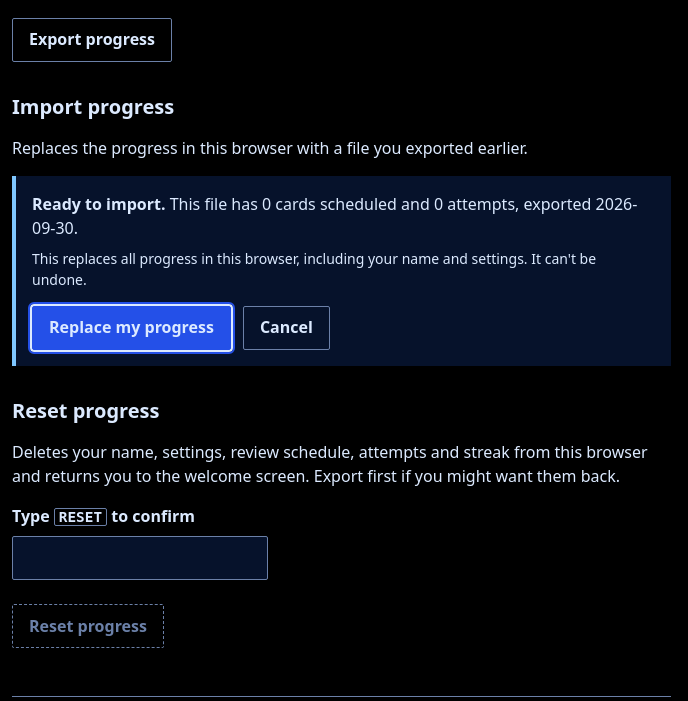
Test case: Settings › cancels an import without changing anything and returns focus to the chooser
Earlier steps of the test are not shown.
(page scrolled)
Click the button "Cancel" at {"x": 286, "y": 328}, box [243, 306, 330, 350]
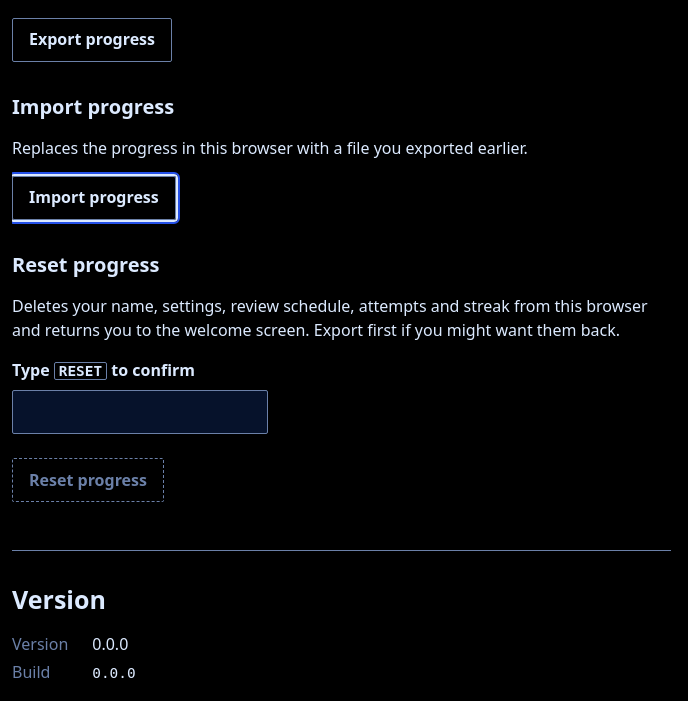
Check: the text "Ready to import" is gone
